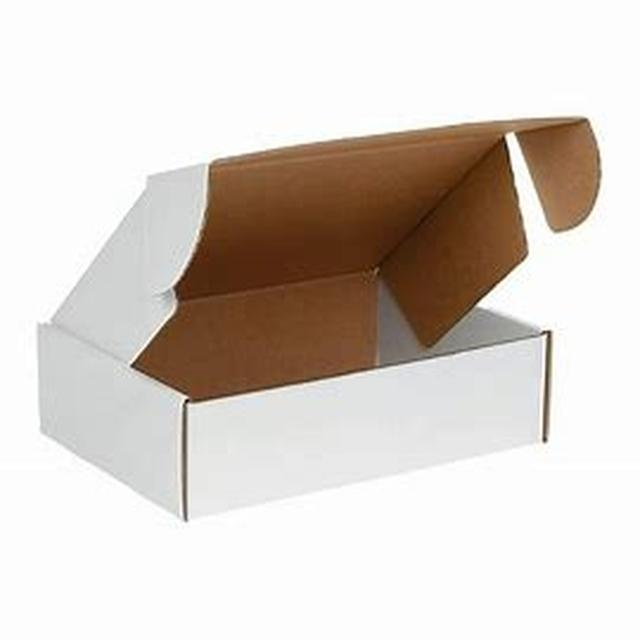box: (13, 89, 613, 512), (13, 281, 586, 547)
